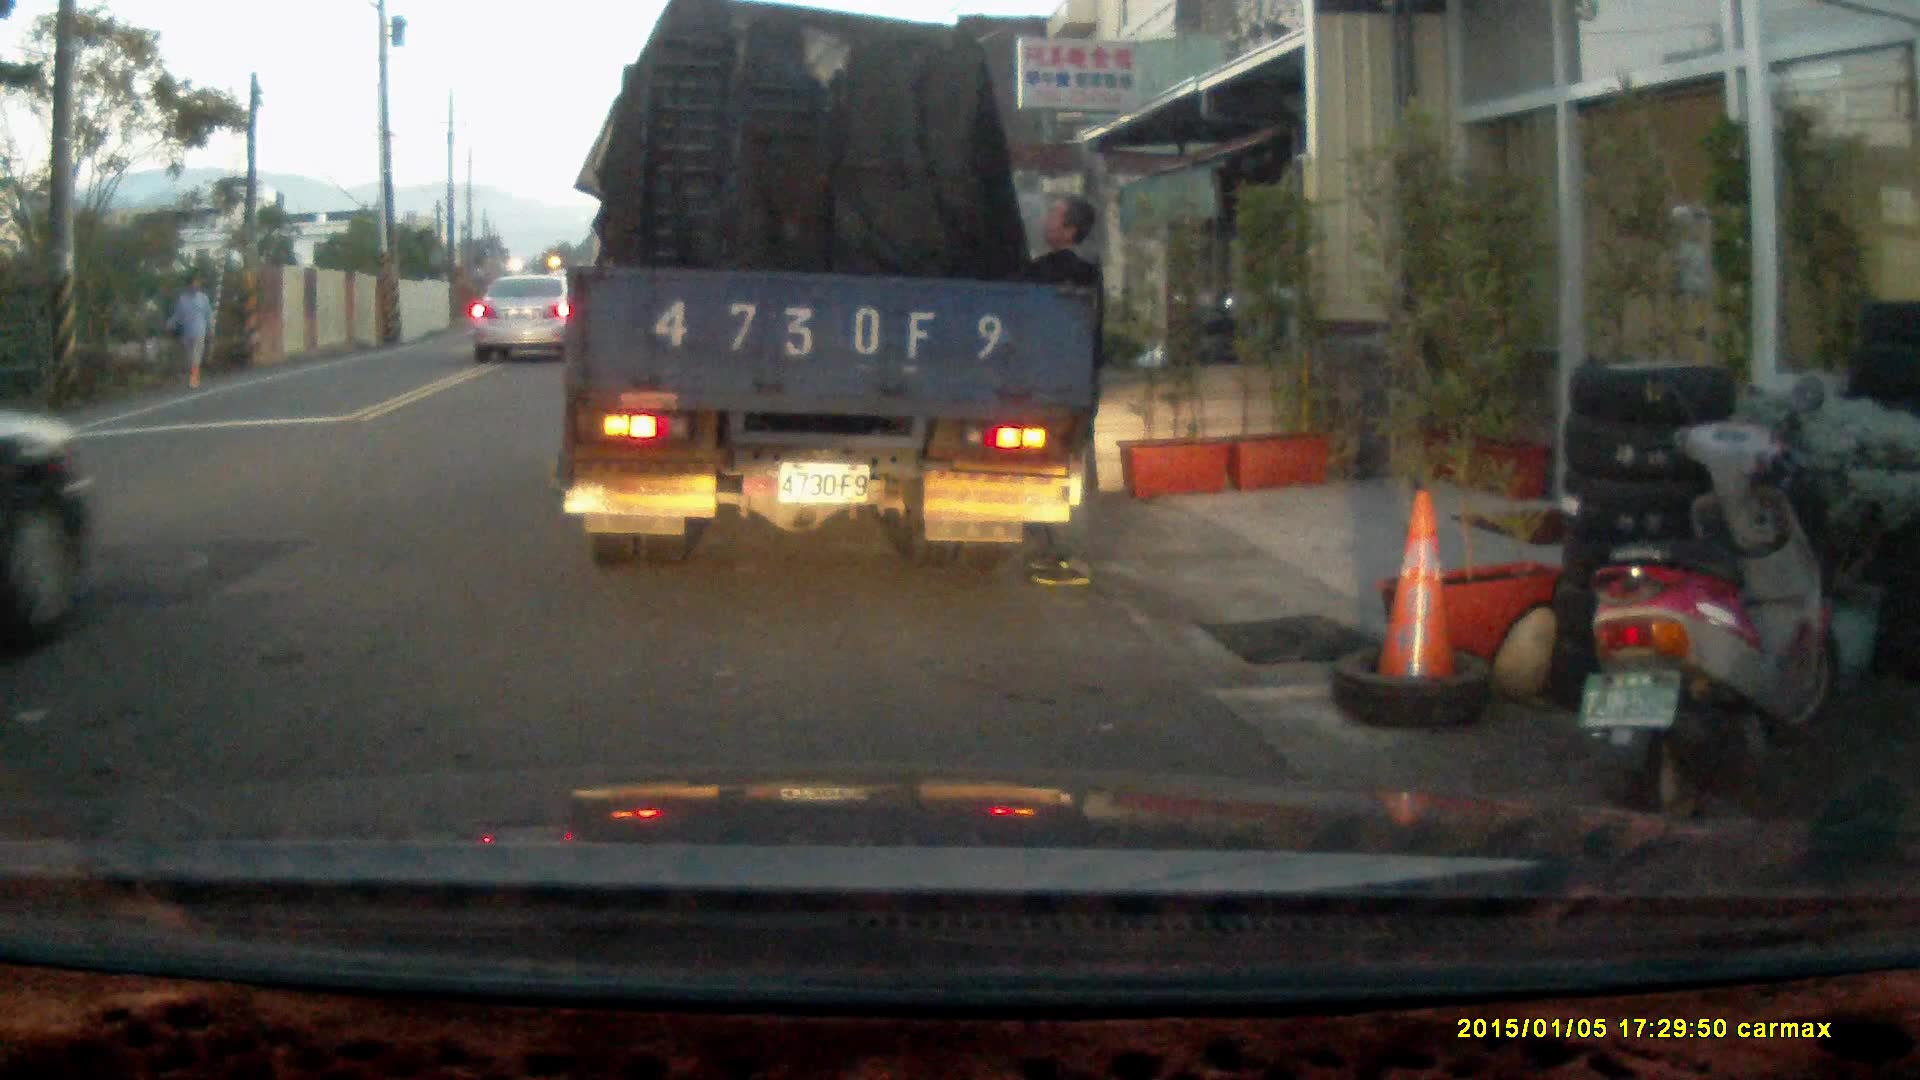pedestrian: (990, 194, 1105, 587), (169, 270, 216, 388)
vehicle: (565, 23, 1097, 572), (470, 268, 592, 362)
